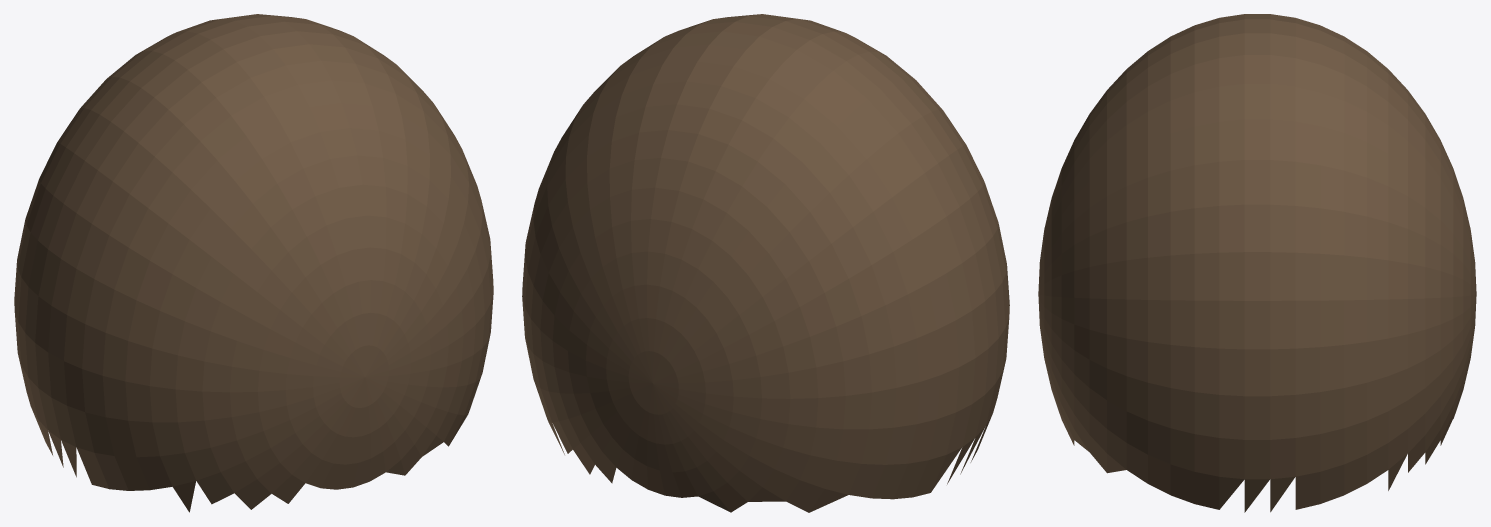
The model's file is buzz.glb.
3 views of the same model, side by side, from view 1: azimuth 30°, elevation 25°; view 2: azimuth 150°, elevation 25°; view 3: azimuth 270°, elevation 25° (orthographic). The views are drawn at different scales.
Visible parts, largest first — view 1: part_000; view 2: part_000; view 3: part_000.
Part boxes in pixels (x1,y1,x2,y2): part_000: (14, 14, 493, 512); part_000: (522, 14, 1009, 512); part_000: (1038, 14, 1476, 512).
Size of the model in its own units: 0.2096 by 0.1892 by 0.19.
